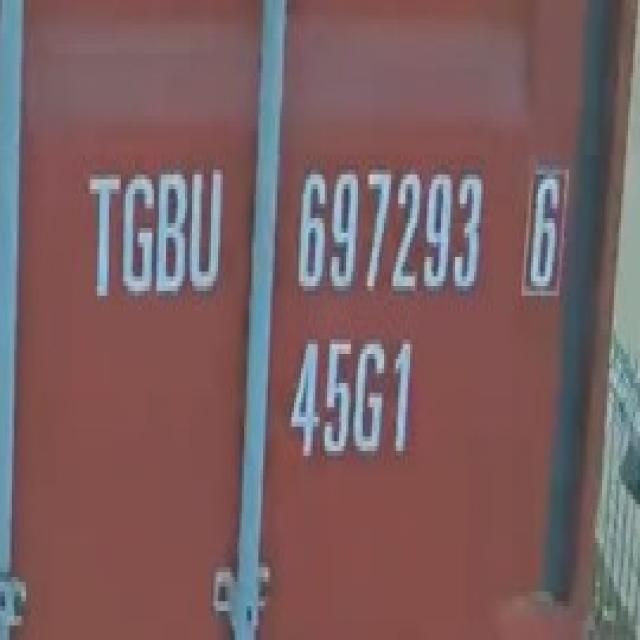dv: (513, 156, 573, 302)
owner: (81, 156, 226, 306)
serial: (292, 157, 489, 300)
size: (280, 325, 414, 471)
